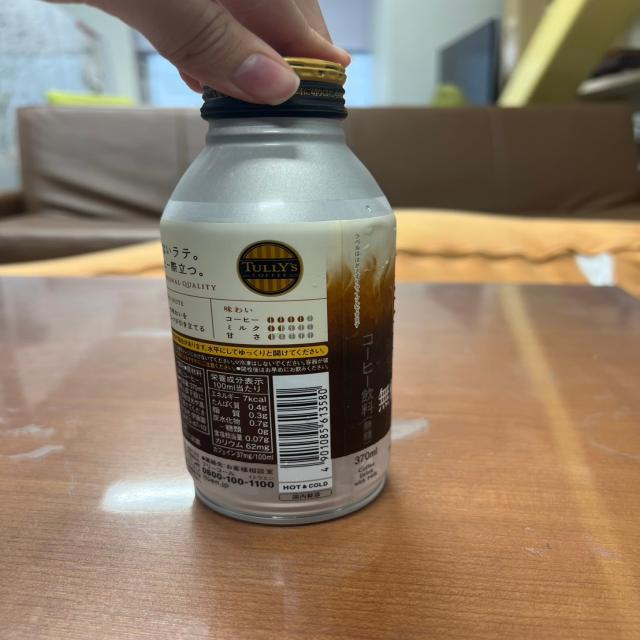coffee-latte: (166, 38, 397, 529)
